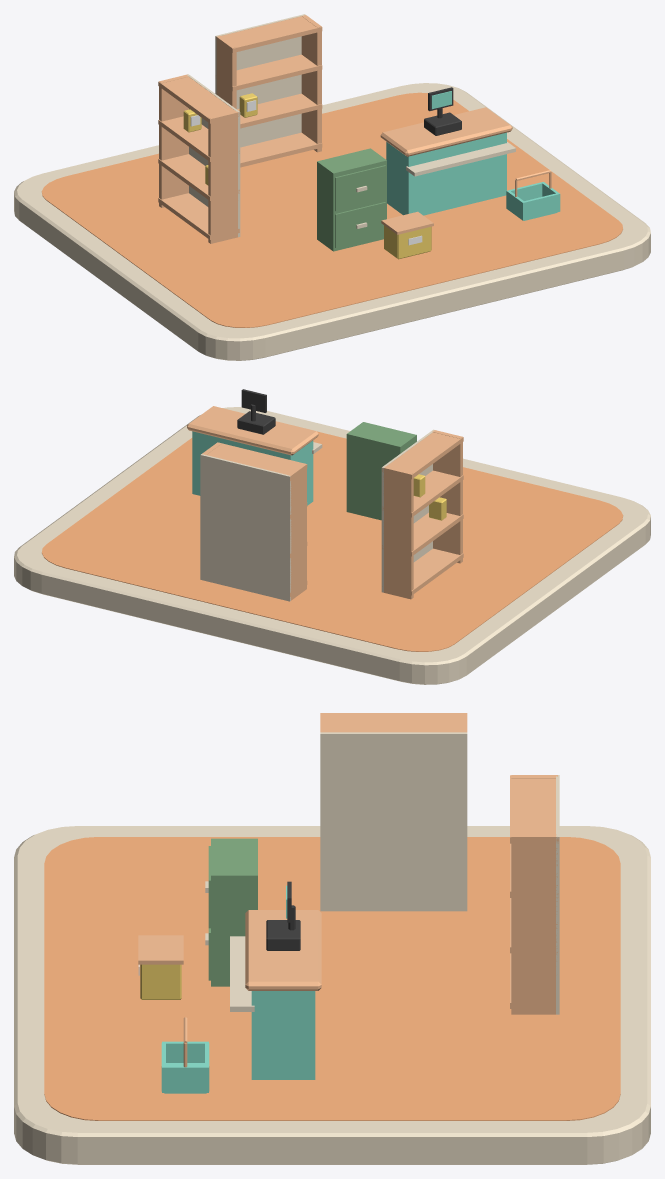
3 views of the same model, one above another, from view 1: azimuth 30°, elevation 25°; view 2: azimuth 150°, elevation 25°; view 3: azimuth 270°, elevation 25° (orthographic). The views are drawn at different scales.
Parts seen in each view (by area): view 1: COM-02 Floor Surface, COM-01 Rounded Base Direct, Counter body, Cabinet, Back.001, Side.001, Countertop, Side, Side.003, Shelf.007, Shelf.006, Shelf.003 (+12 smaller); view 2: COM-02 Floor Surface, COM-01 Rounded Base Direct, Back.001, Cabinet, Side, Countertop, Side.002, Side.001, Counter body, Shelf.003, Shelf.007, Shelf (+5 smaller); view 3: COM-02 Floor Surface, COM-01 Rounded Base Direct, Back, Side.003, Counter body, Cabinet, Countertop, Shelf.007, Shelf.003, Box, Lid, Visitor shelf (+4 smaller).
Boxes of the visible parts, x1,y1,x2,y2 form: COM-02 Floor Surface: (41,92,622,327); COM-01 Rounded Base Direct: (14,83,650,360); Counter body: (386,132,506,215); Cabinet: (317,148,386,251); Back.001: (215,14,305,147); Side.001: (208,110,238,243); Countertop: (380,107,512,156); Side: (159,74,188,207); Side.003: (301,15,321,152); Shelf.007: (215,16,322,52); Shelf.006: (215,54,322,91); Shelf.003: (158,77,239,123); COM-02 Floor Surface: (42,431,623,651); COM-01 Rounded Base Direct: (14,407,650,684); Back.001: (200,454,291,601); Cabinet: (346,422,416,520); Side: (383,466,413,599); Countertop: (187,406,318,455); Side.002: (287,463,306,600); Side.001: (432,430,462,563); Counter body: (192,431,313,505); Shelf.003: (382,432,463,479); Shelf.007: (207,442,307,480); Shelf: (382,548,463,595); COM-02 Floor Surface: (44,837,620,1120); COM-01 Rounded Base Direct: (14,826,650,1164); Back: (320,732,467,911); Side.003: (511,834,557,1014); Counter body: (251,991,315,1079); Cabinet: (205,838,257,986); Countertop: (245,910,321,990); Shelf.007: (510,775,558,843); Shelf.003: (320,713,466,732); Box: (140,964,181,999); Lid: (138,935,183,964); Visitor shelf: (230,936,254,1011).
Size of the model in its own units: 6 by 1.9 by 5.2.
Materials: 1 (1 with a texture image).
